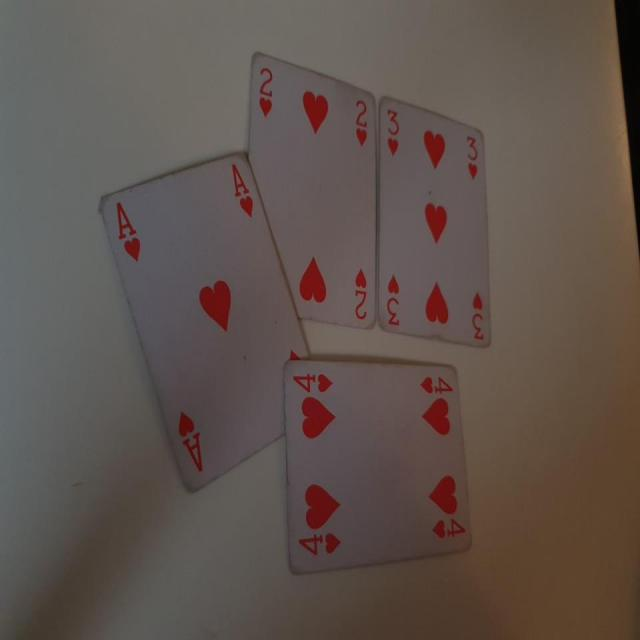2 of hearts: (242, 53, 384, 338)
3 of hearts: (373, 94, 502, 355)
4 of hearts: (275, 348, 478, 580)
ace of hearts: (90, 148, 328, 504)
